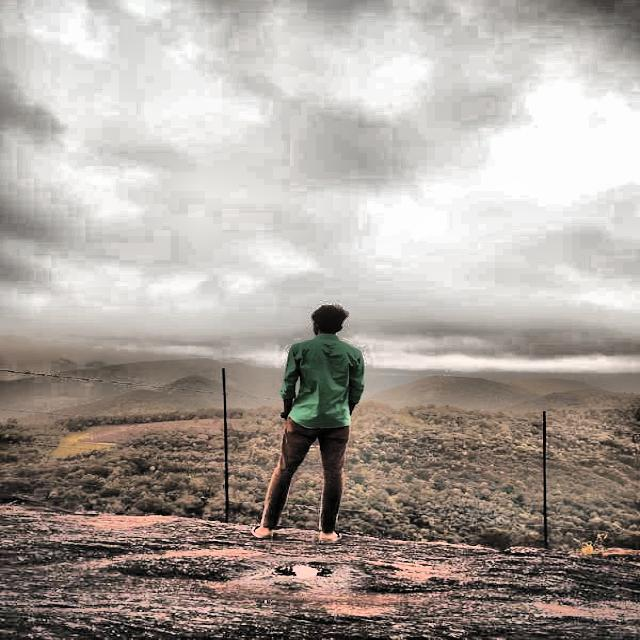Human: (241, 284, 381, 545)
